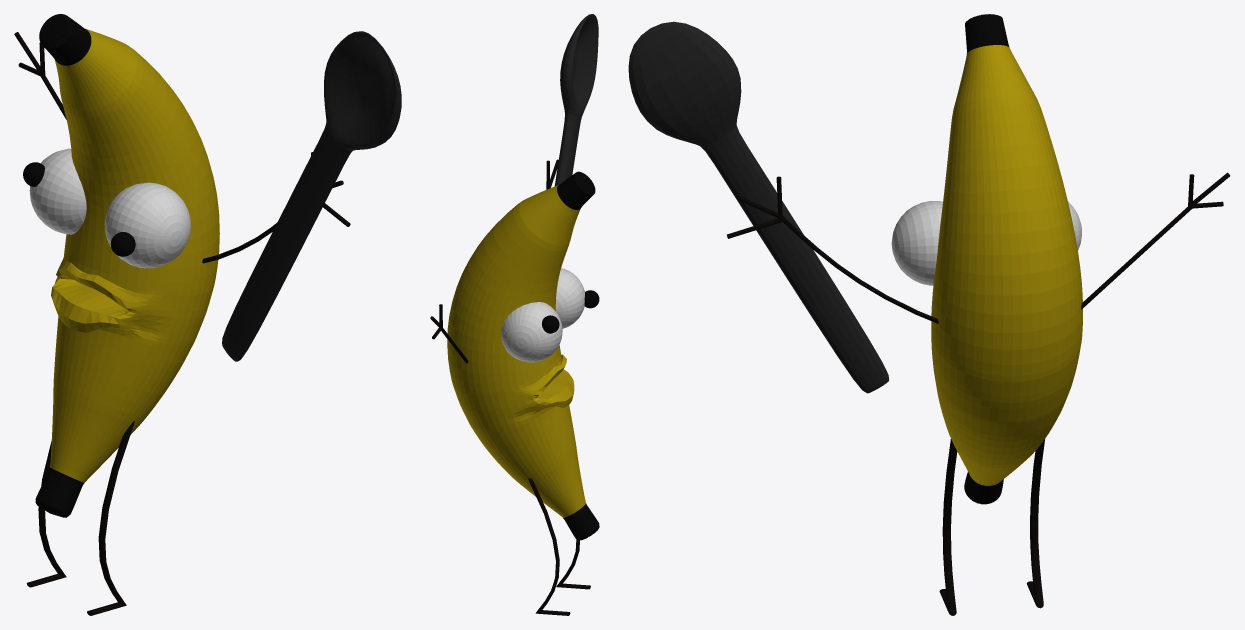
The model's file is bananaMan2.obj.
The picture shows the model from 3 angles, left to right: view 1: azimuth 30°, elevation 25°; view 2: azimuth 150°, elevation 25°; view 3: azimuth 270°, elevation 25°; orthographic projection. The views are drawn at different scales.
Parts seen in each view (by area): view 1: Loft01, Box01, Sphere01, Sphere02, Line07, Line02, Line06, Line04; view 2: Loft01, Box01, Sphere02, Sphere01, Line02, Line07, Line06, Sphere05; view 3: Loft01, Box01, Sphere01, Line04, Line07, Line02, Line06.
Boxes of the visible parts, bbox=[...] form: Loft01: bbox=[35, 14, 219, 517]; Box01: bbox=[222, 31, 401, 361]; Sphere01: bbox=[104, 182, 190, 268]; Sphere02: bbox=[29, 148, 86, 234]; Line07: bbox=[87, 421, 134, 615]; Line02: bbox=[26, 441, 66, 587]; Line06: bbox=[14, 32, 66, 119]; Line04: bbox=[202, 152, 350, 263]; Loft01: bbox=[447, 171, 599, 540]; Box01: bbox=[554, 14, 598, 186]; Sphere02: bbox=[501, 302, 562, 362]; Sphere01: bbox=[555, 268, 584, 328]; Line02: bbox=[528, 478, 570, 615]; Line07: bbox=[556, 539, 590, 589]; Line06: bbox=[430, 304, 468, 363]; Sphere05: bbox=[542, 315, 559, 333]; Loft01: bbox=[931, 14, 1082, 504]; Box01: bbox=[628, 21, 888, 393]; Sphere01: bbox=[891, 201, 942, 285]; Line04: bbox=[727, 176, 938, 323]; Line07: bbox=[939, 439, 957, 615]; Line02: bbox=[1026, 439, 1044, 608]; Line06: bbox=[1081, 172, 1230, 309].
Size of the model in its own units: 0.9004 by 2.93 by 2.49.
